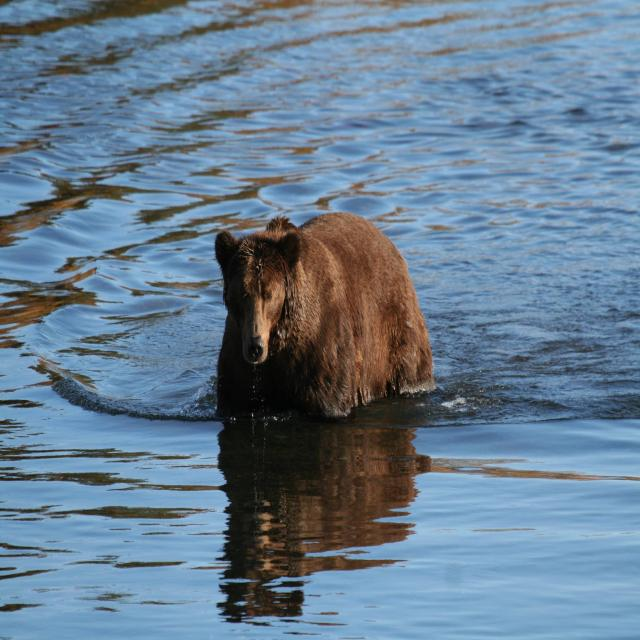bear face: (215, 212, 433, 394)
